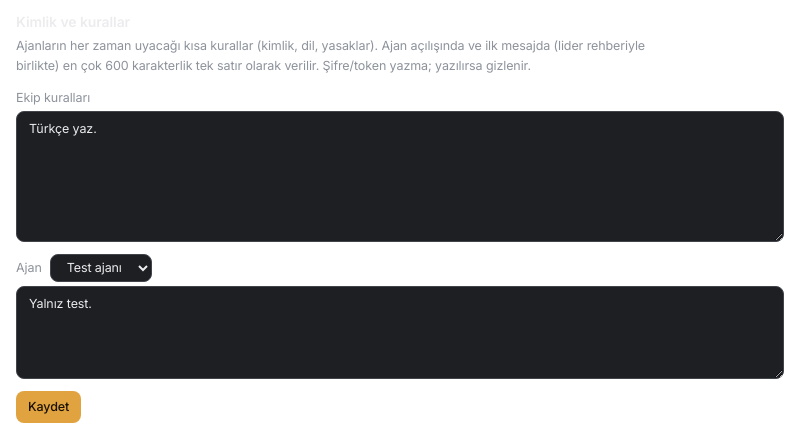
Test: Kimlik ve kurallar › kayıtlı kuralları gösteriyor; düzenleyip kaydedince ekip + ajan kuralları gidiyor
The width and height of the screenshot is (801, 440).
Replace the text in the text box labelled "Ekip kuralları" with "Türkçe yaz. SAP'ye yazma." at (400, 177), box [16, 111, 784, 242]
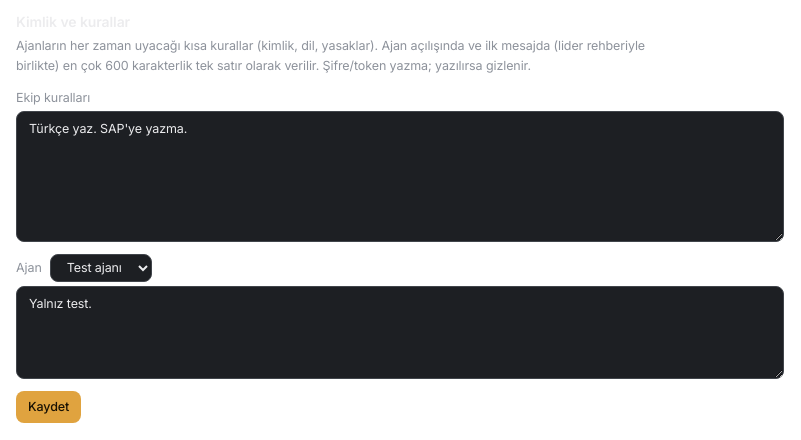
Select "Analist" in the dropdown labelled "Ajan" at (101, 268), box [50, 254, 152, 282]
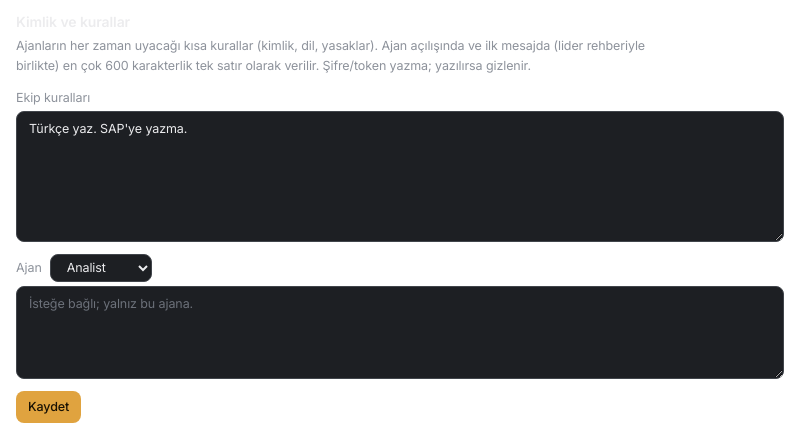
Type "Yalnız analiz." into the text box named "Bu ajana özel kurallar" at (400, 332), box [16, 286, 784, 379]
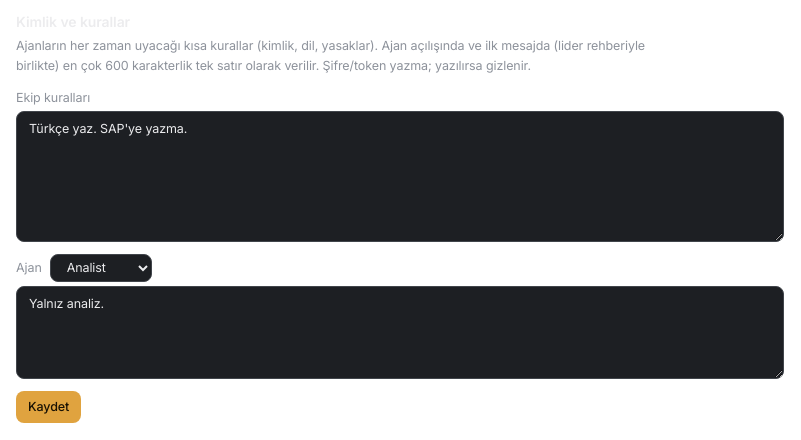
Click the button "Kaydet" at (49, 407), box [16, 391, 81, 423]
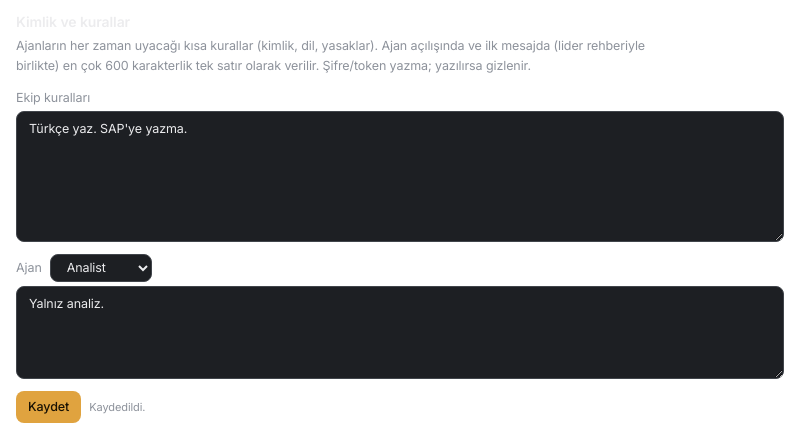
expect the text "Kaydedildi." is shown: met, box [89, 399, 145, 415]
